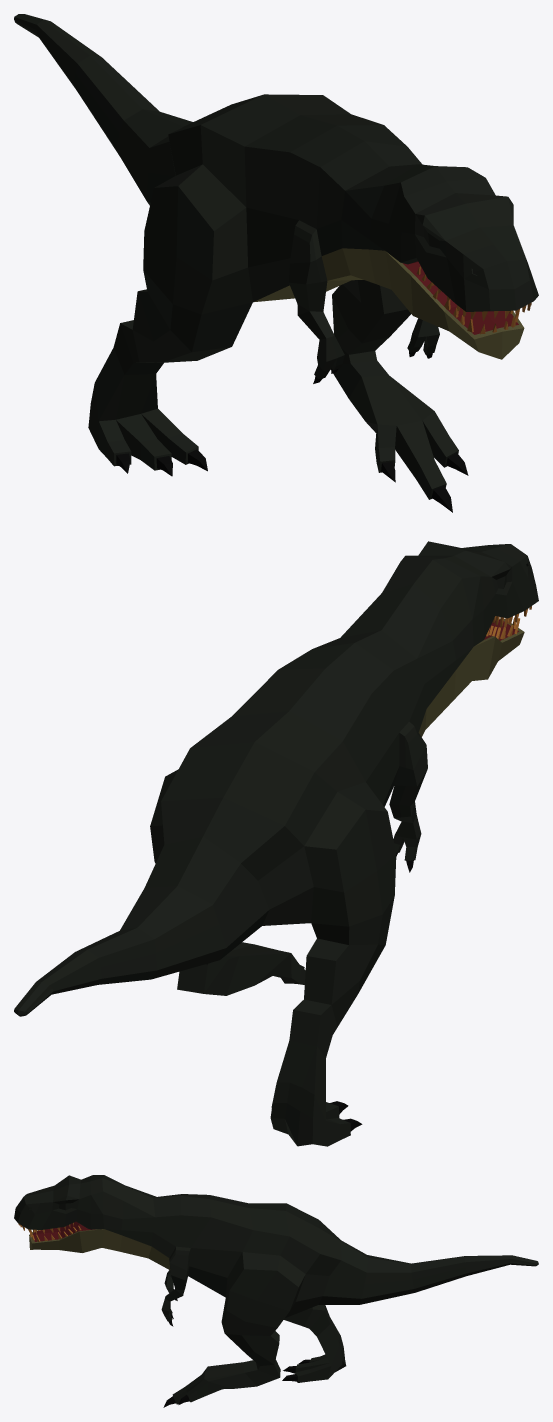
The model's file is Trex_000031.obj.
The picture shows the model from 3 angles, top to bottom: view 1: azimuth 30°, elevation 25°; view 2: azimuth 150°, elevation 25°; view 3: azimuth 270°, elevation 25°; orthographic projection. The views are drawn at different scales.
Parts seen in each view (by area): view 1: Trex_Cylinder; view 2: Trex_Cylinder; view 3: Trex_Cylinder.
Boxes of the visible parts, x1,y1,x2,y2 form: Trex_Cylinder: (14, 14, 538, 512); Trex_Cylinder: (14, 541, 538, 1146); Trex_Cylinder: (14, 1175, 538, 1407).
Bounding box in the file's own units: 8.1 × 14.21 × 31.2.
